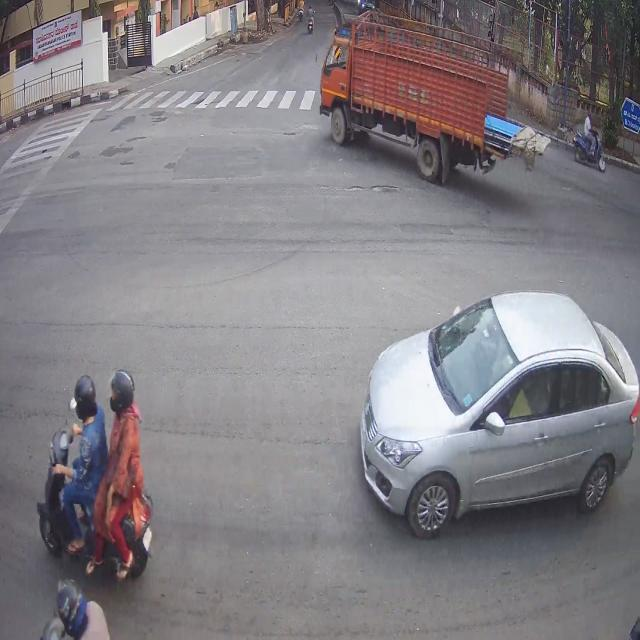Car: (364, 320, 629, 496)
Truck: (325, 31, 519, 190)
Two-wheelers: (43, 412, 152, 569), (577, 110, 608, 172), (308, 13, 319, 37), (297, 0, 305, 19)
